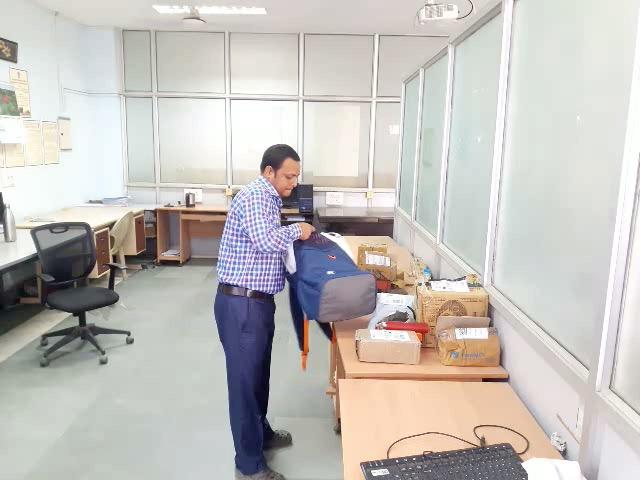shoplifting: (189, 199, 403, 316)
